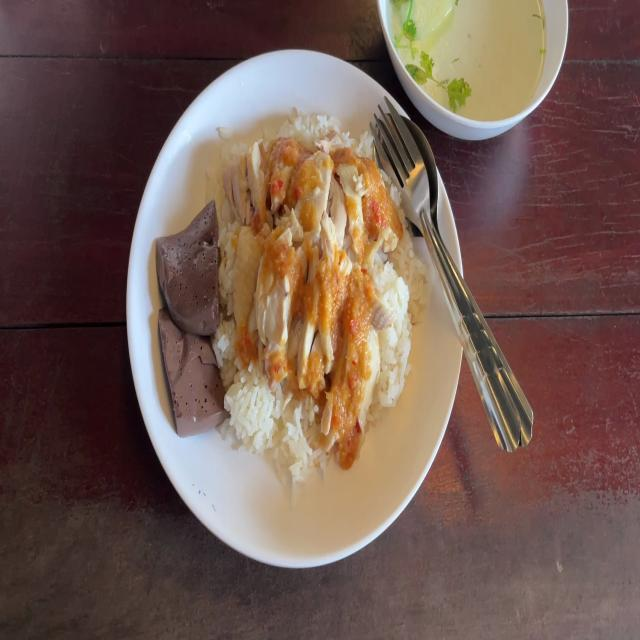boiled_chicken: (222, 147, 380, 411)
boiled_chicken_blood_jelly: (153, 299, 221, 427), (156, 200, 221, 329)
chicken_rice: (159, 124, 415, 482)
